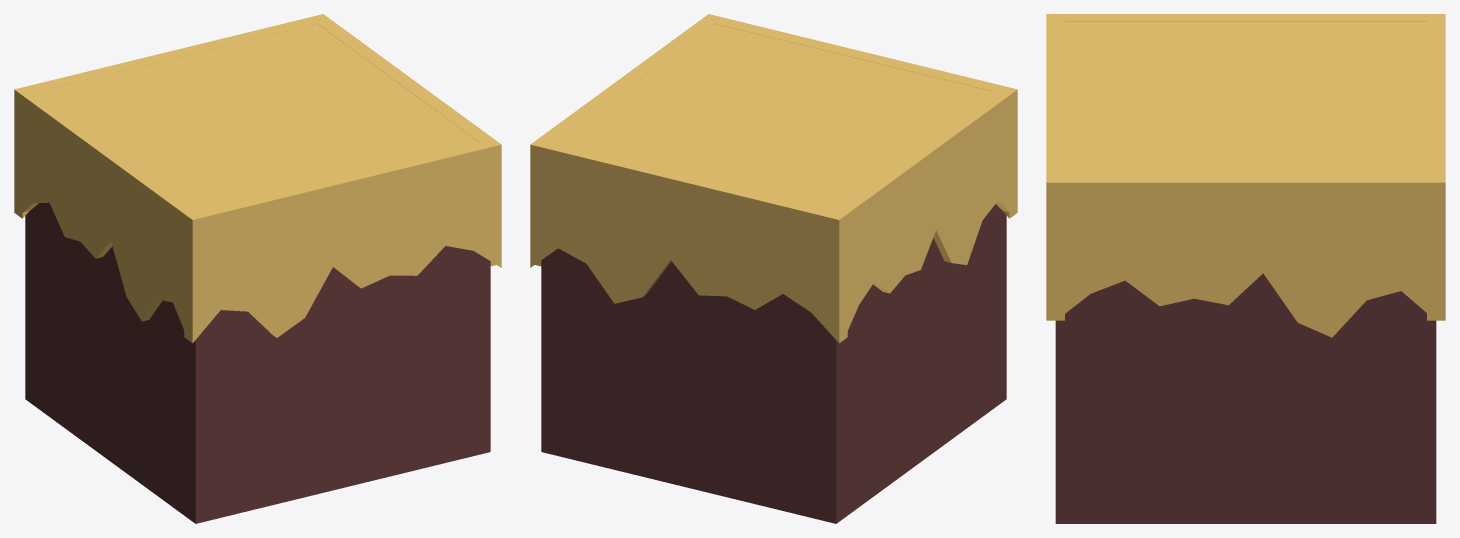
The model's file is Biom_Wüste_Grasblock.fbx.
3 views of the same model, side by side, from view 1: azimuth 30°, elevation 25°; view 2: azimuth 150°, elevation 25°; view 3: azimuth 270°, elevation 25° (orthographic). The views are drawn at different scales.
Visible parts, largest first — view 1: Block.006, Gras.005; view 2: Block.006, Gras.005; view 3: Block.006, Gras.005.
Part boxes in pixels (<box>): Block.006: <box>25,23,490,523</box>; Gras.005: <box>14,14,501,343</box>; Block.006: <box>541,23,1006,523</box>; Gras.005: <box>530,14,1017,343</box>; Block.006: <box>1055,22,1436,523</box>; Gras.005: <box>1046,14,1445,337</box>.
Bounding box in the file's own units: 105 × 100 × 105.
